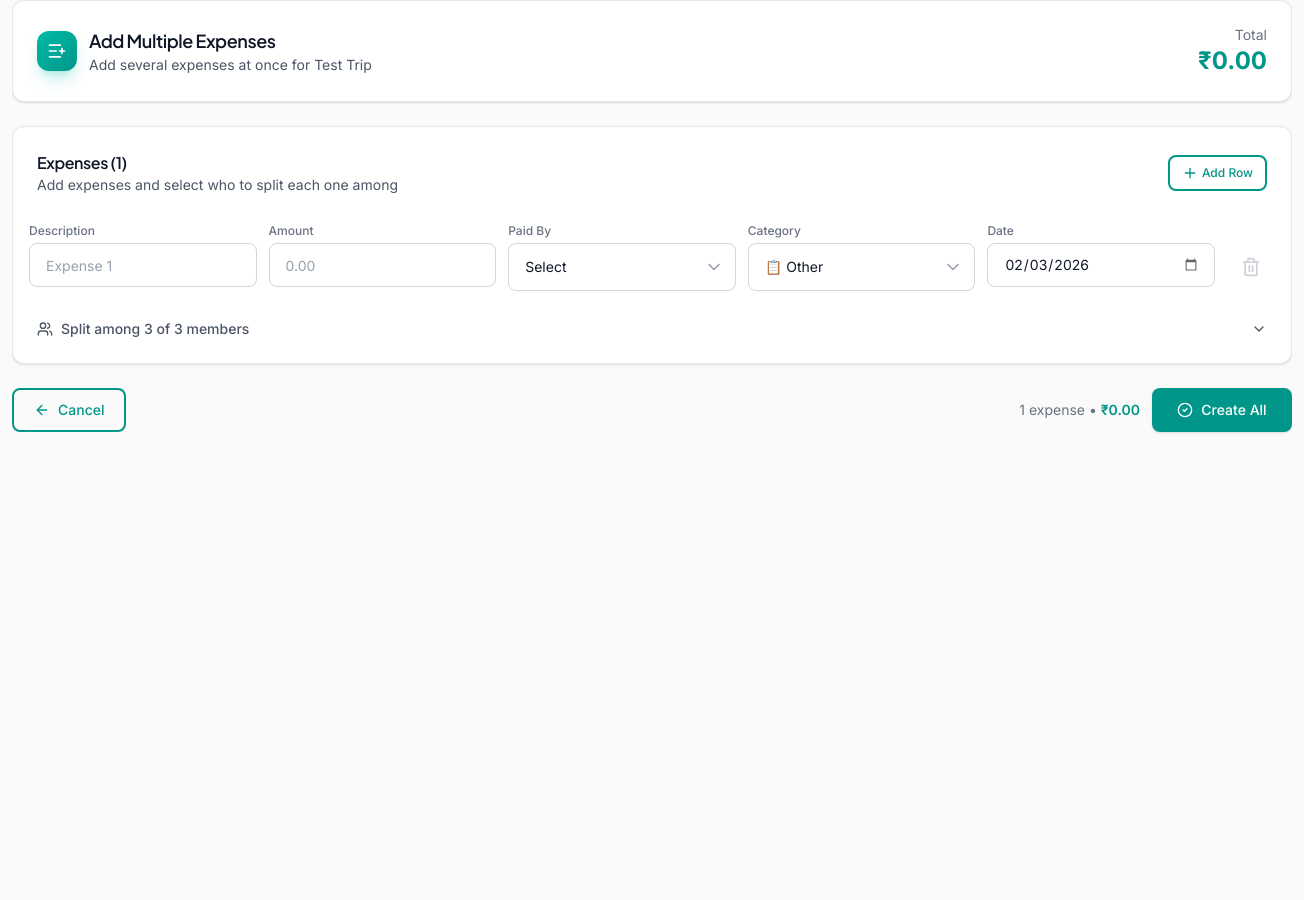
Scenario: BulkExpenseForm › displays correct expense count in footer
Expected: the text "1 expense • ₹0.00" is shown, [1019,400,1140,420]
# Add more rows
Step 1. Click the button "Add Row" → {"x": 1217, "y": 173}, box [1168,155,1267,191]
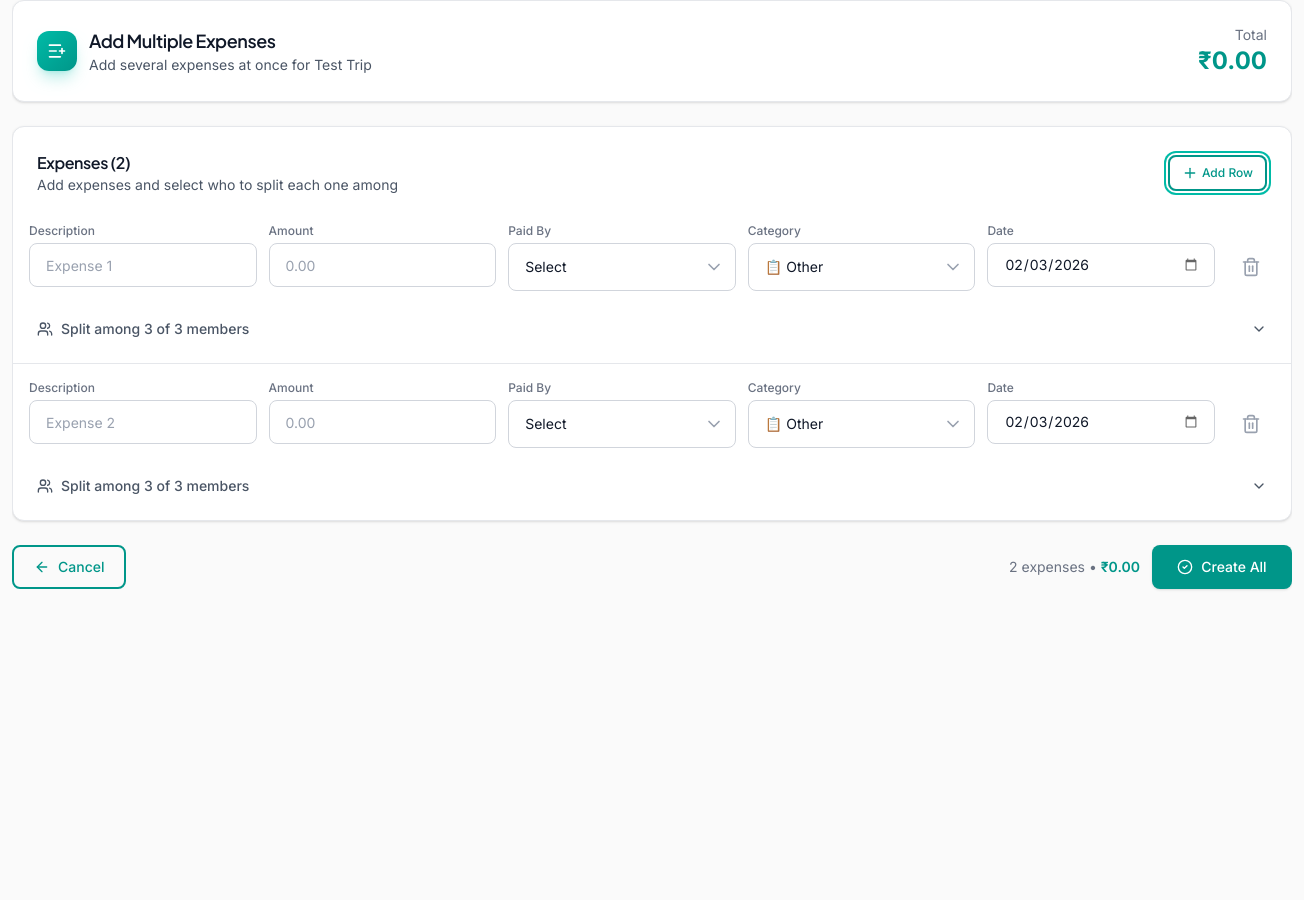
Step 2. Click the button "Add Row" → {"x": 1217, "y": 173}, box [1168,155,1267,191]
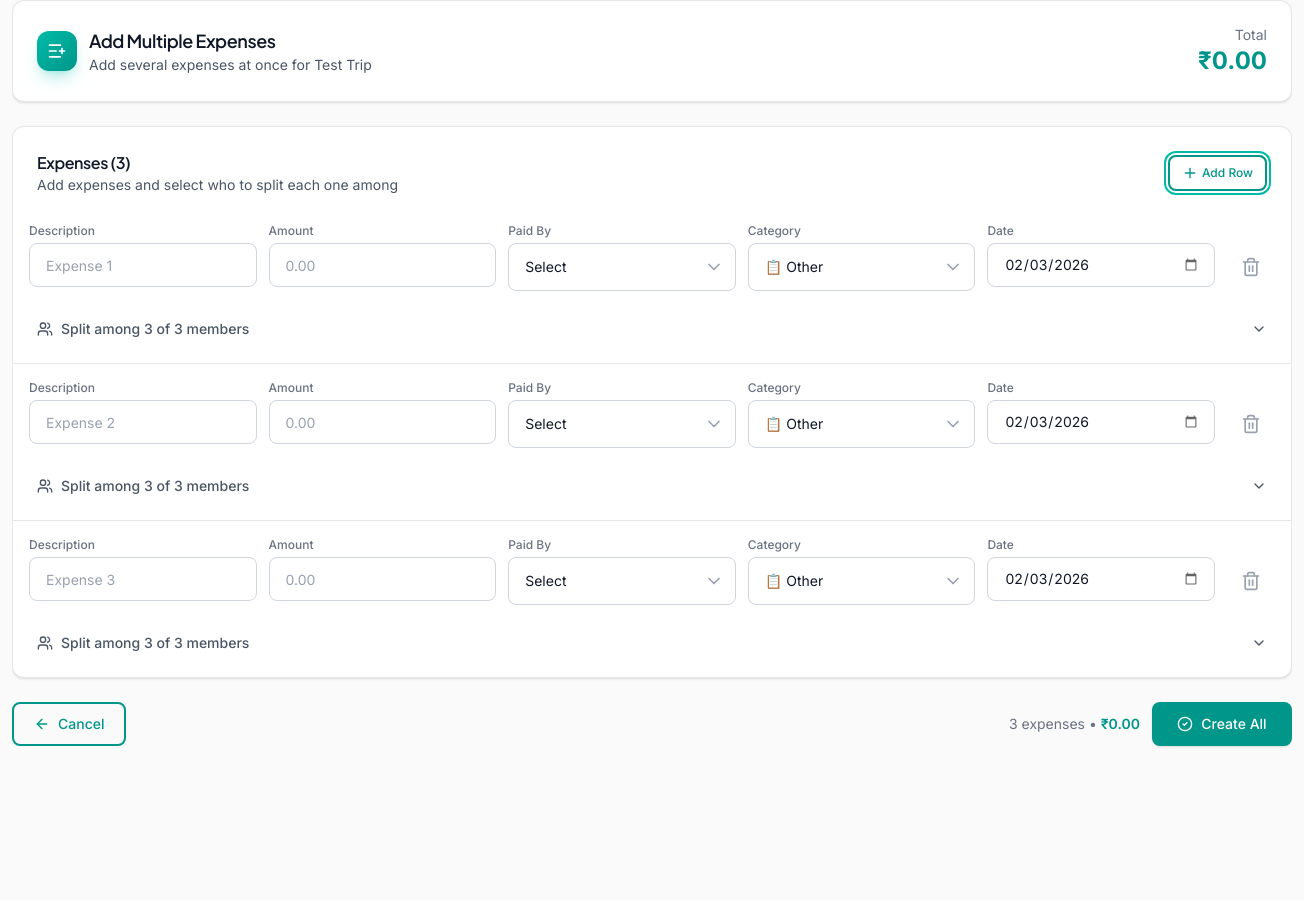
Expected: the text "3 expenses • ₹0.00" is shown, [1009,714,1140,734]
